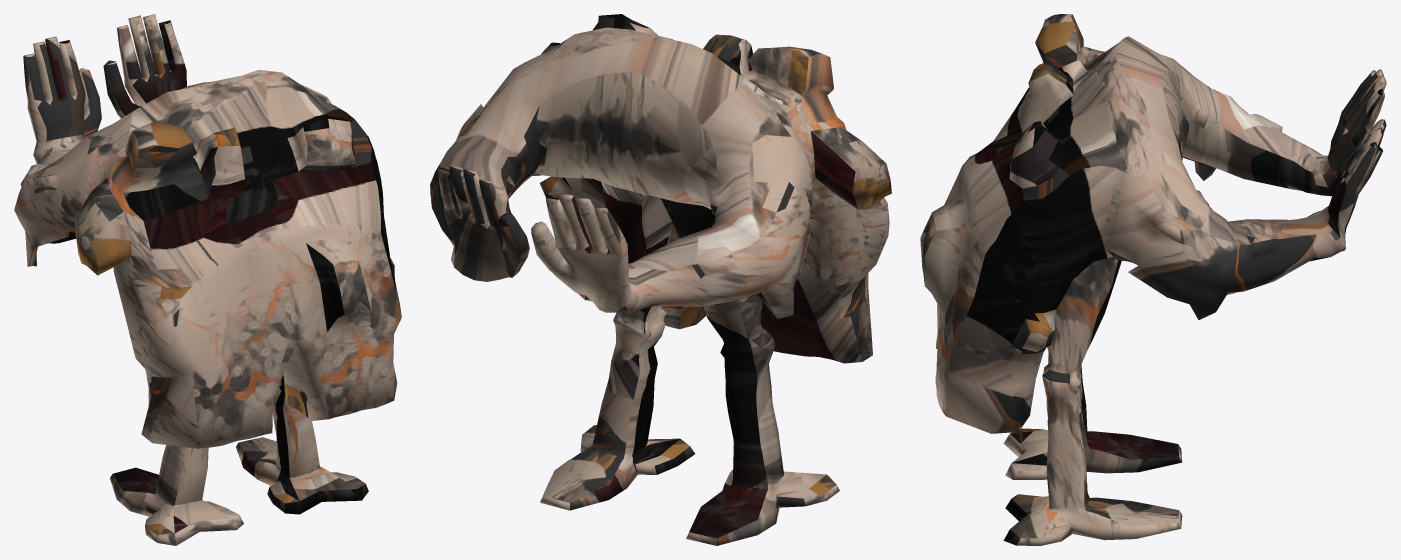
File: tank.obj
The picture shows the model from 3 angles, left to right: view 1: azimuth 30°, elevation 25°; view 2: azimuth 150°, elevation 25°; view 3: azimuth 270°, elevation 25°; orthographic projection. The views are drawn at different scales.
Visible parts, largest first — view 1: Cube.003; view 2: Cube.003; view 3: Cube.003.
Part boxes in pixels (<box>): Cube.003: <box>14,14,401,545</box>; Cube.003: <box>430,14,891,545</box>; Cube.003: <box>920,14,1386,545</box>.
Bounding box in the file's own units: 4.74 × 5.79 × 5.67.
